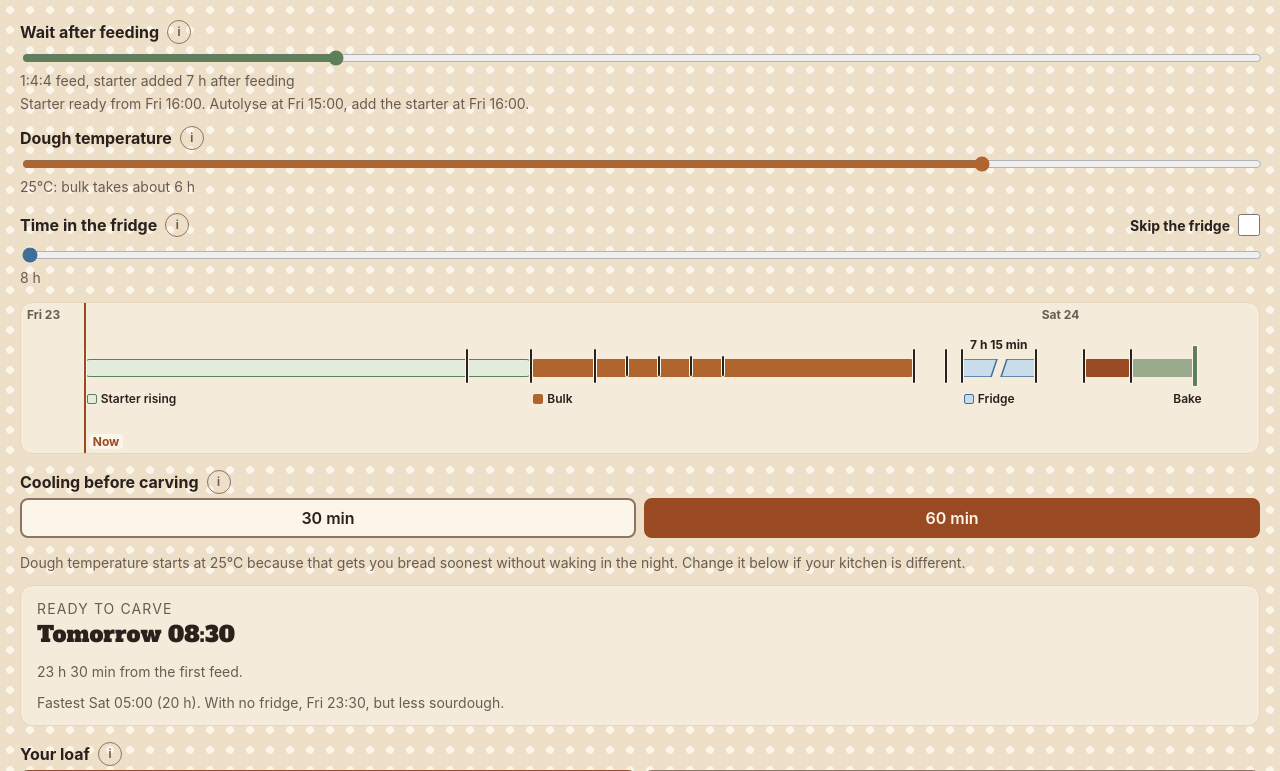
Test case: lever tips › are (i) buttons beside each label that open a short explanation, not lines of text
Click the button named "What is dough temperature?" at (192, 138), box 180,126 -> 204,150
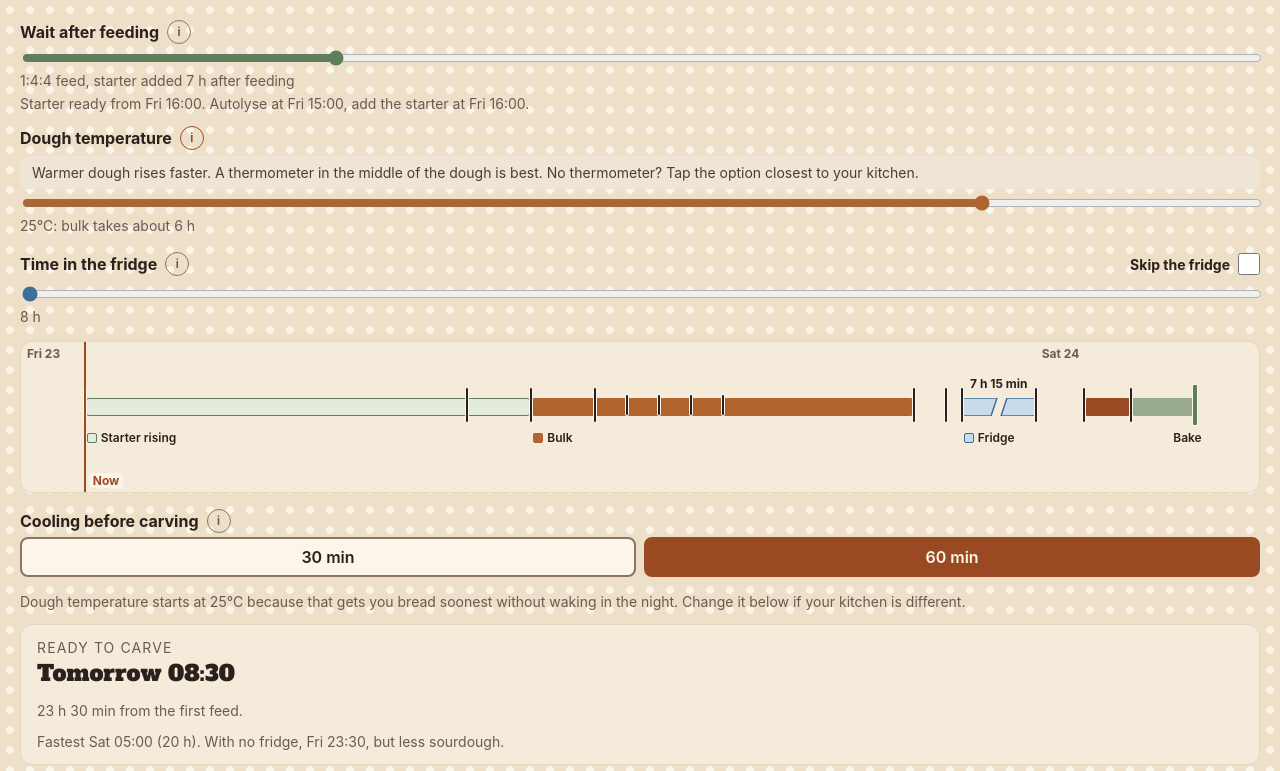
Expected: the text "Warmer dough rises faster" is shown, 32,164 -> 919,181
